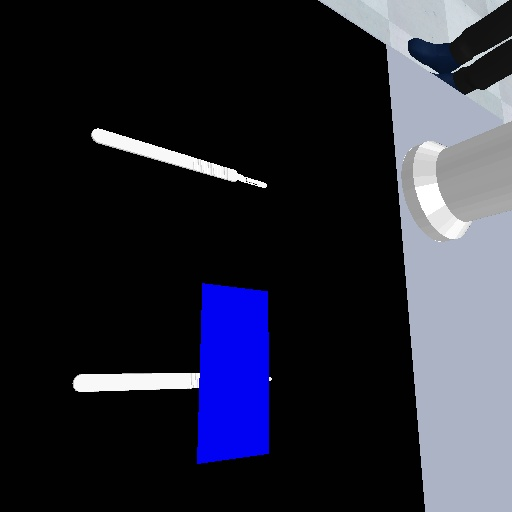bisturi: (84, 122, 271, 195), (68, 368, 203, 394)
